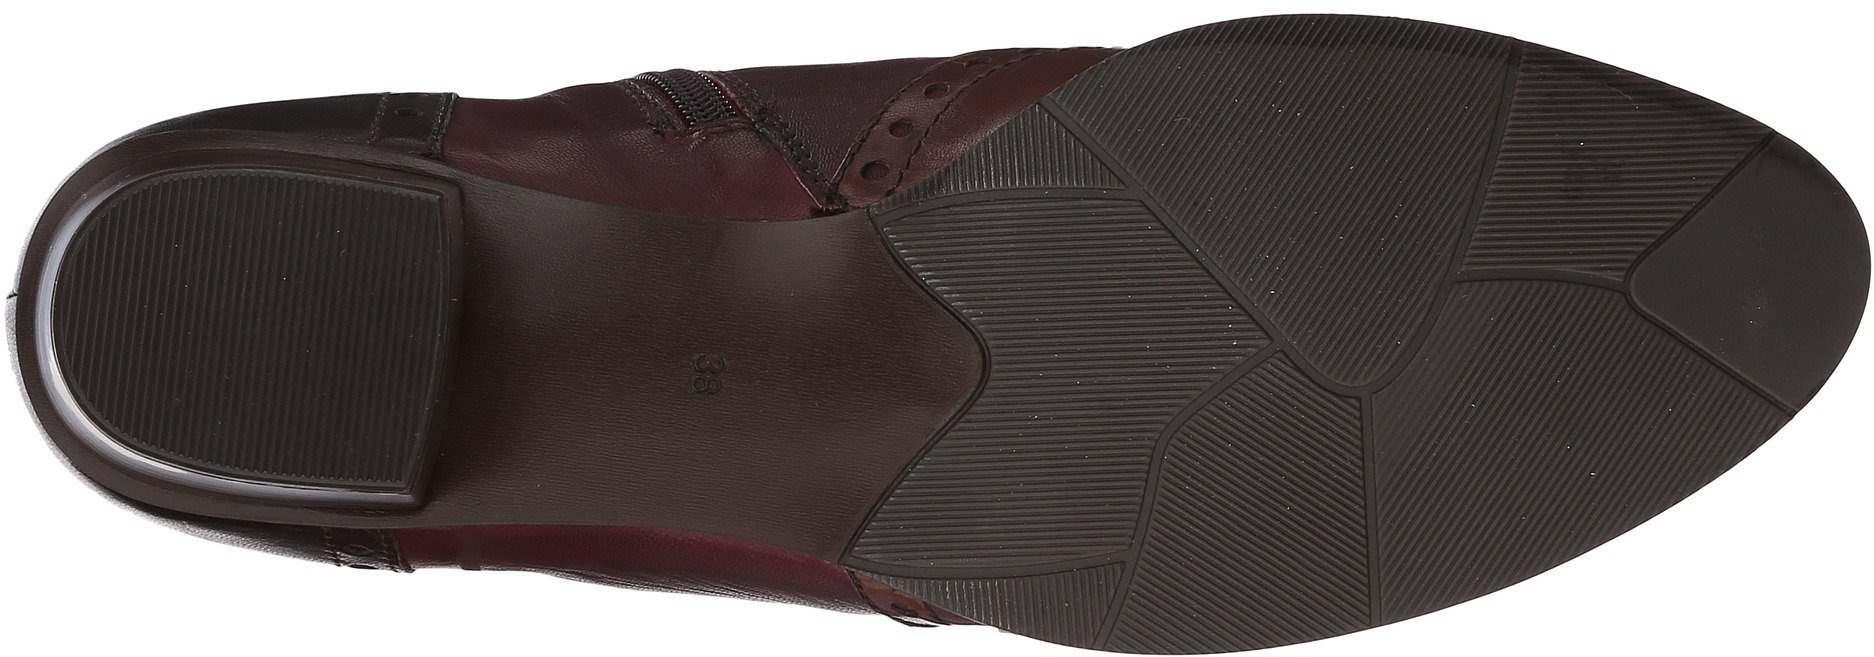chevron: (1255, 67, 1550, 354), (988, 154, 1244, 406), (999, 420, 1225, 625)
exclude: (386, 143, 710, 555)
line: (1255, 67, 1550, 354), (988, 154, 1244, 406), (1256, 369, 1492, 595), (999, 420, 1225, 625), (1561, 149, 1656, 246)
other: (94, 217, 275, 420), (745, 268, 924, 446), (284, 223, 437, 389), (1688, 223, 1825, 393), (1505, 364, 1659, 510)
